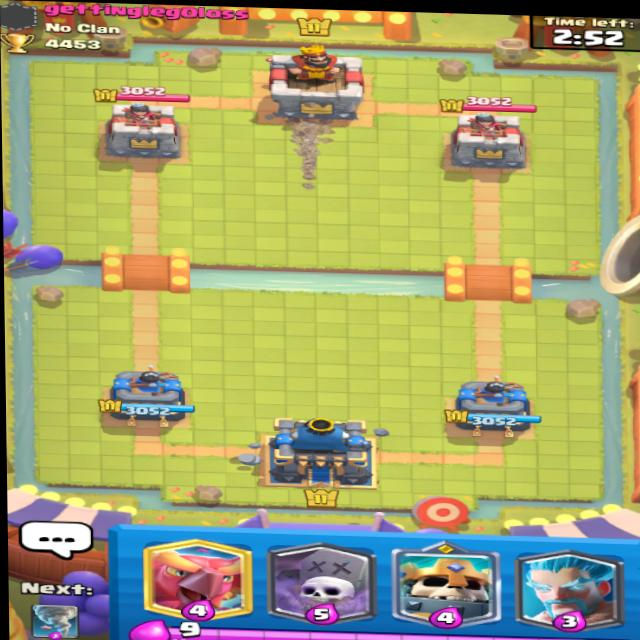trail: (266, 114, 348, 194)
